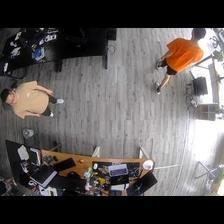normal: (154, 28, 206, 94), (2, 81, 64, 119)
